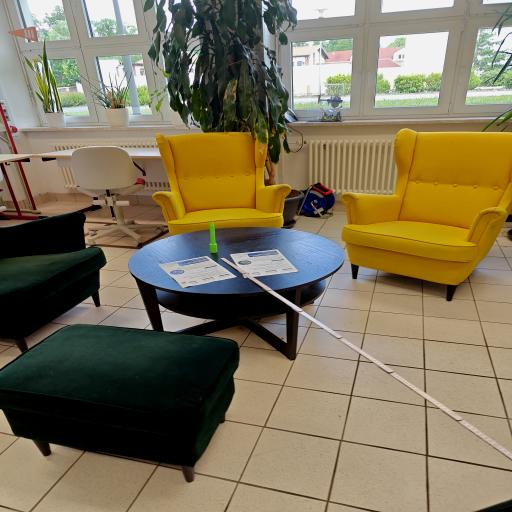Probe-Detection: (210, 220, 218, 253)
